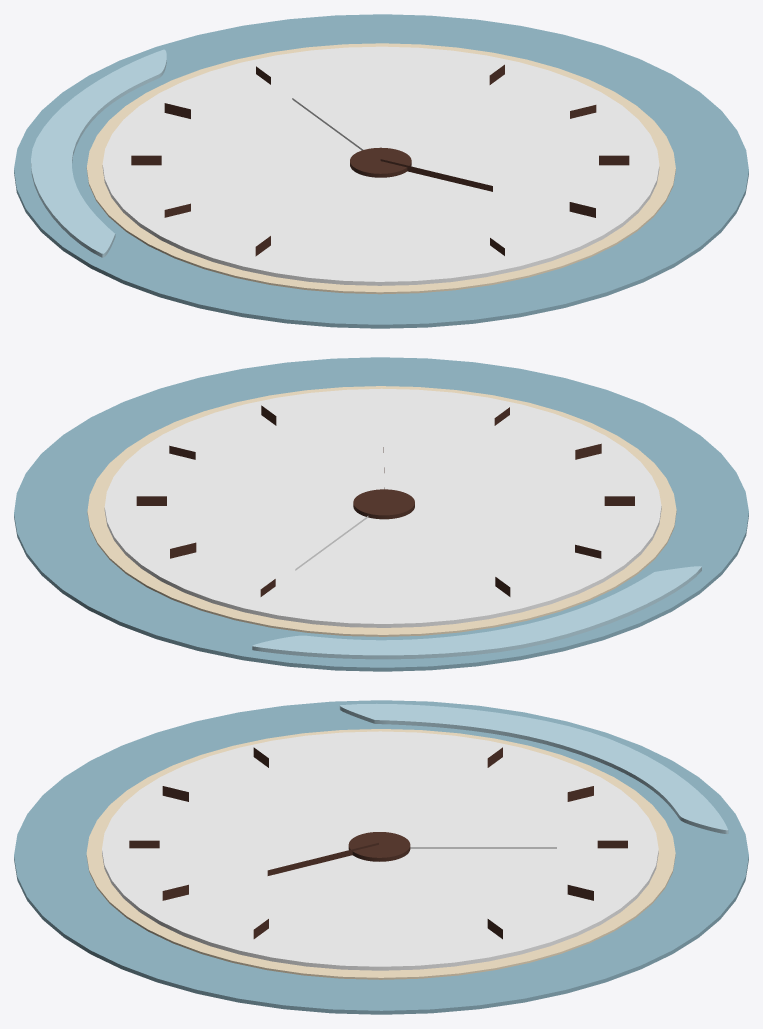
File: emoji_u1f554.glb
The picture shows the model from 3 angles, top to bottom: view 1: azimuth 30°, elevation 25°; view 2: azimuth 150°, elevation 25°; view 3: azimuth 270°, elevation 25°; orthographic projection.
Parts seen in each view (by area): view 1: emoji_u1f554; view 2: emoji_u1f554; view 3: emoji_u1f554.
Part boxes in pixels (box(x1,y1,x2,y2)): emoji_u1f554: box(14, 14, 748, 328); emoji_u1f554: box(14, 357, 748, 671); emoji_u1f554: box(14, 700, 748, 1014).
Size of the model in its own units: 0.0339 by 0.0018 by 0.0339.
